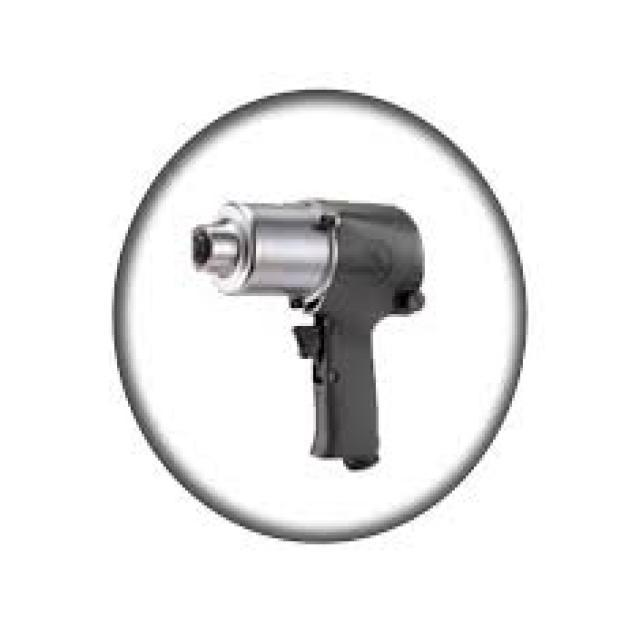drill: (186, 187, 436, 477)
